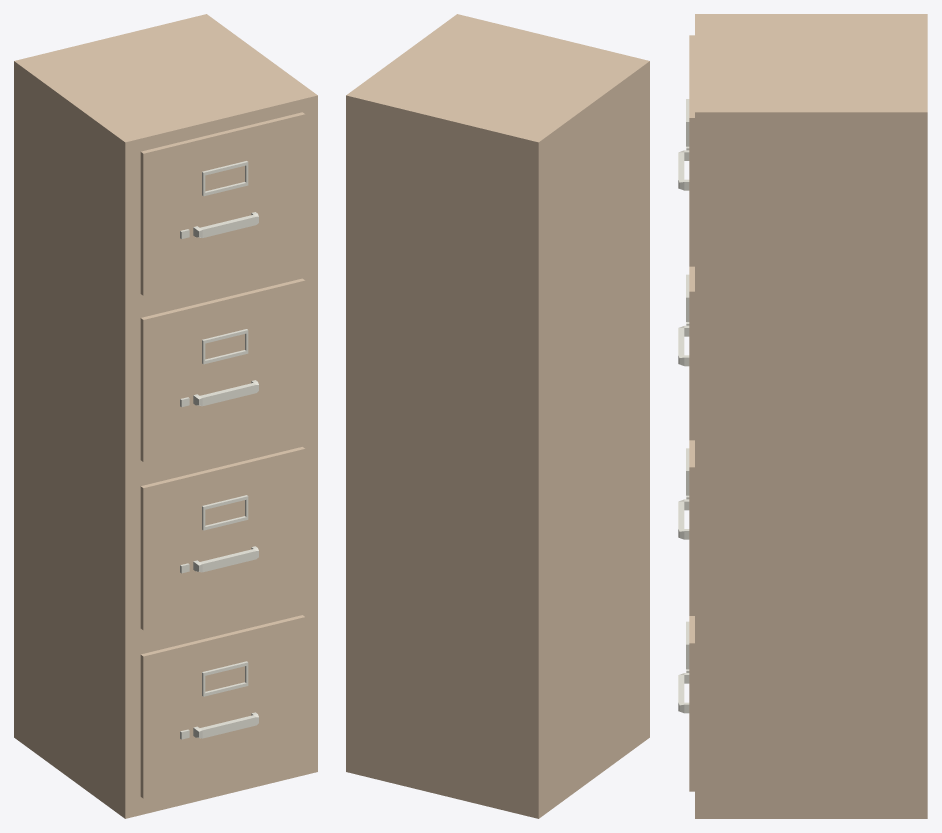
The model's file is file_cabinet.glb.
The picture shows the model from 3 angles, left to right: view 1: azimuth 30°, elevation 25°; view 2: azimuth 150°, elevation 25°; view 3: azimuth 270°, elevation 25°; orthographic projection. The views are drawn at different scales.
Parts seen in each view (by area): view 1: FileCabinet.009; view 2: FileCabinet.009; view 3: FileCabinet.009.
Boxes of the visible parts, bbox=[...] form: FileCabinet.009: bbox=[14, 14, 317, 818]; FileCabinet.009: bbox=[346, 14, 649, 818]; FileCabinet.009: bbox=[678, 14, 927, 818].
Bounding box in the file's own units: 0.4681 × 1.57 × 0.5016.
Materials: 1 (1 with a texture image).
